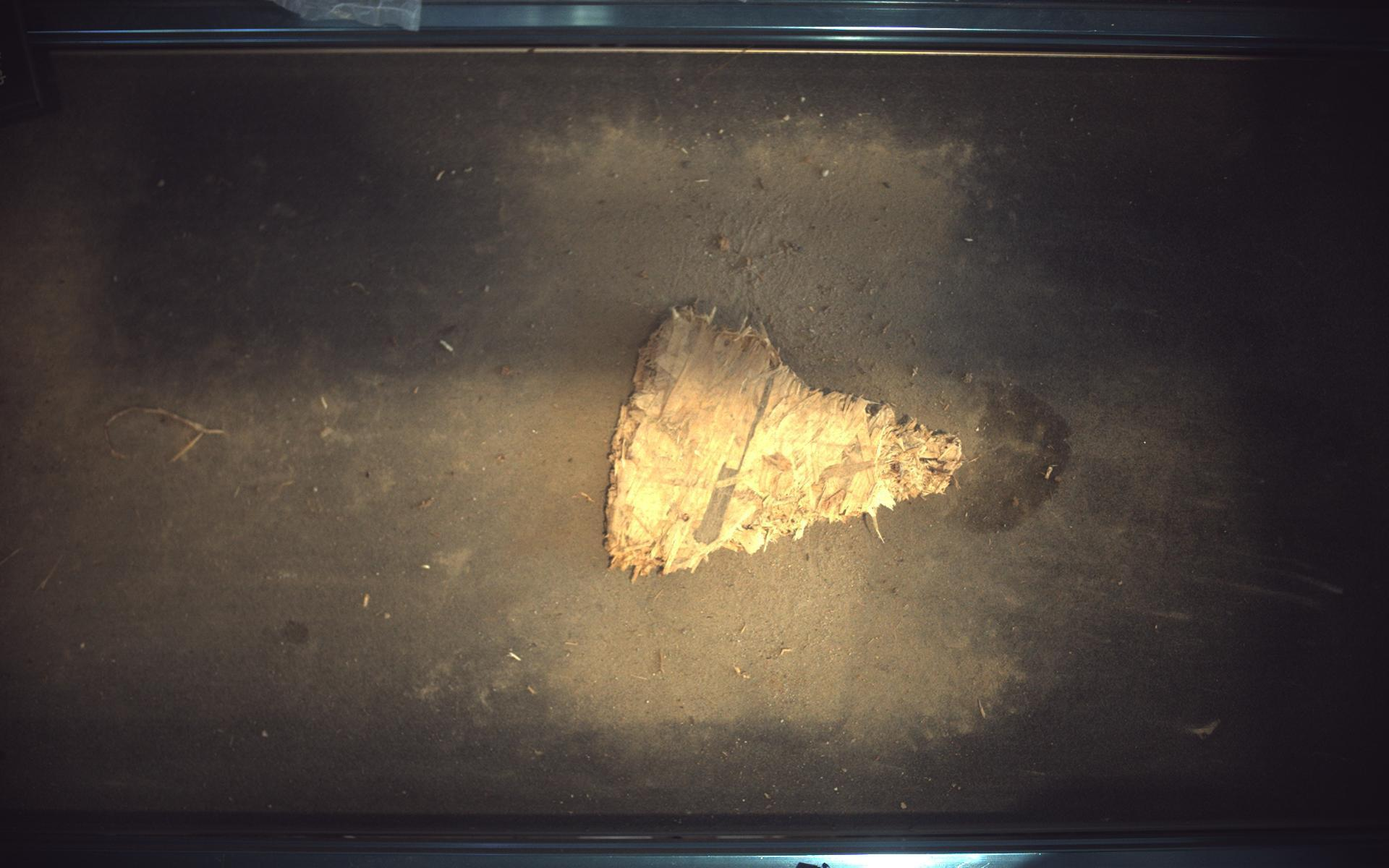wood: (606, 307, 964, 579)
